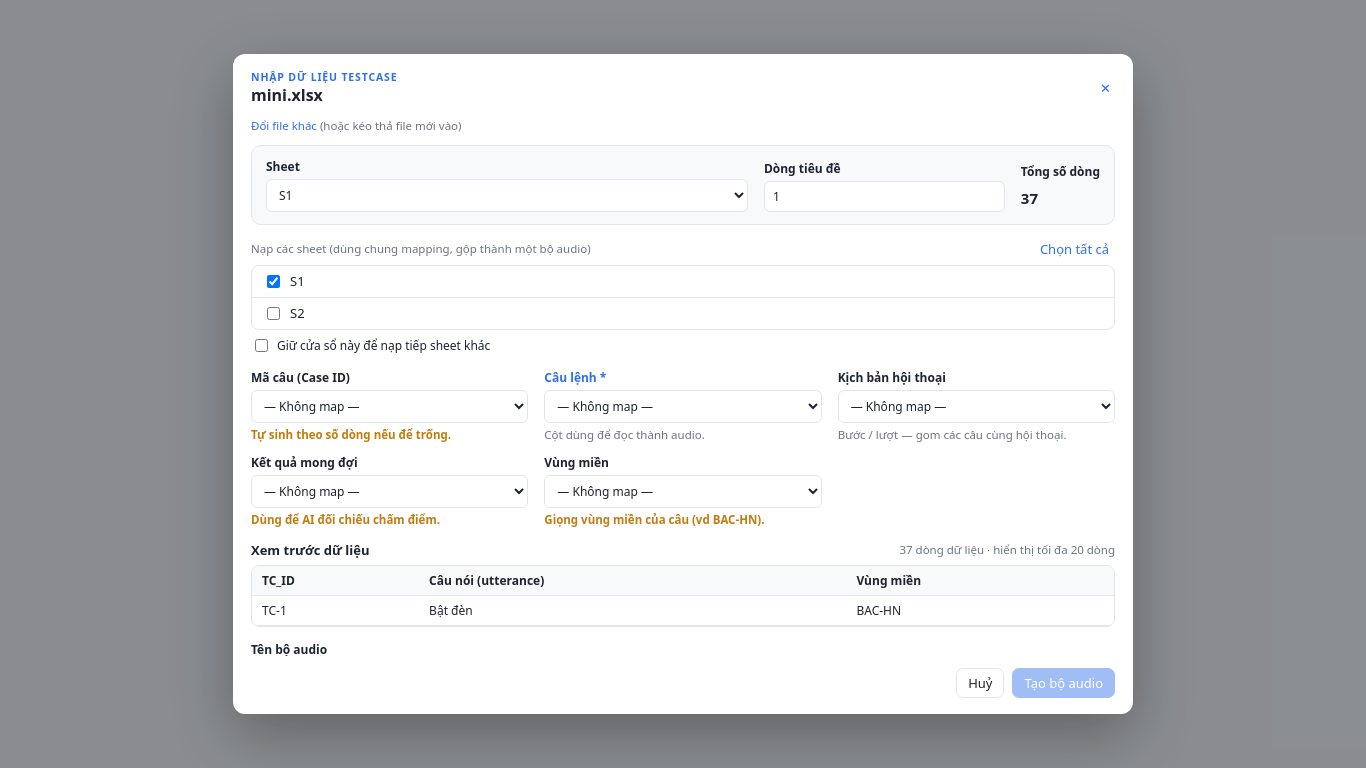
Test case: ImportDialog › create is disabled until a text column is mapped
Earlier steps of the test are not shown.
Expected: the text "37" is shown, [1021,188,1038,208]
Expected: the button "Tạo bộ audio" is disabled, [1012,668,1115,698]
Select "Câu nói (utterance)" in the dropdown labelled "Câu lệnh *": (683, 406) [544,390,822,423]
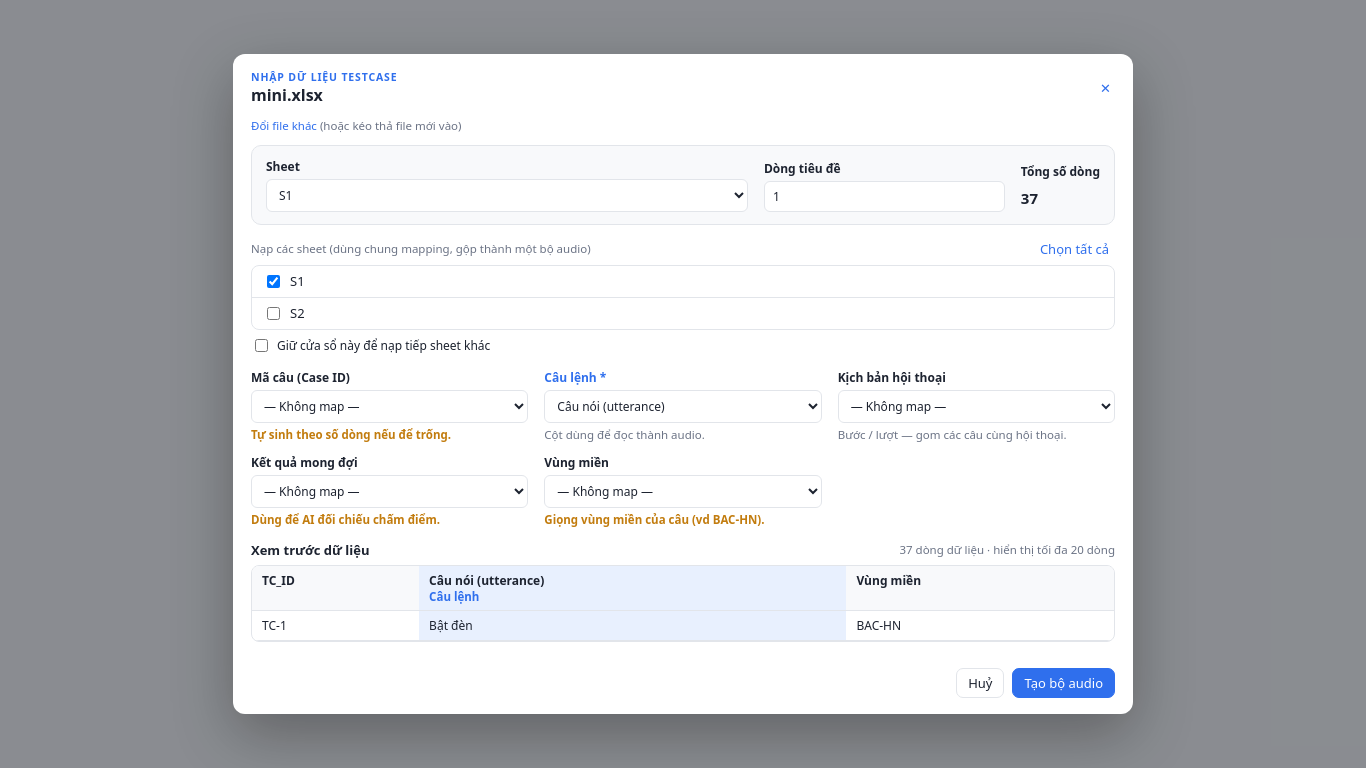
Result: the button "Tạo bộ audio" is enabled at [1012,668,1115,698]
